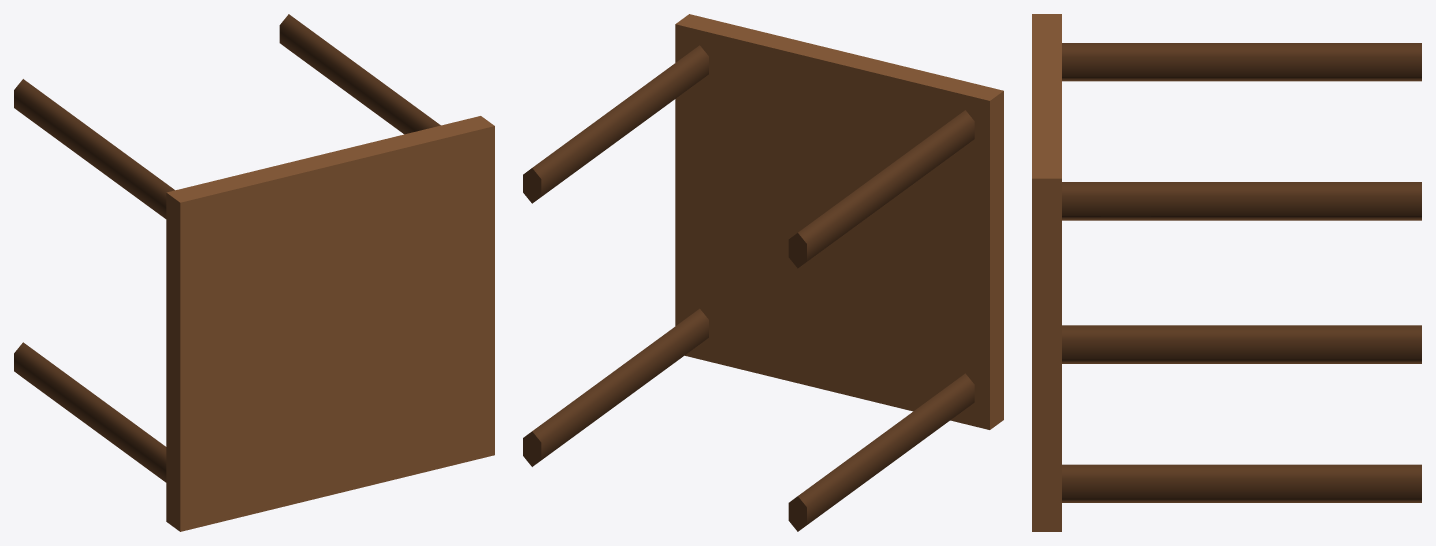
The model's file is table.glb.
The picture shows the model from 3 angles, left to right: view 1: azimuth 30°, elevation 25°; view 2: azimuth 150°, elevation 25°; view 3: azimuth 270°, elevation 25°; orthographic projection. The views are drawn at different scales.
Size of the model in its own units: 1 by 1 by 1.
